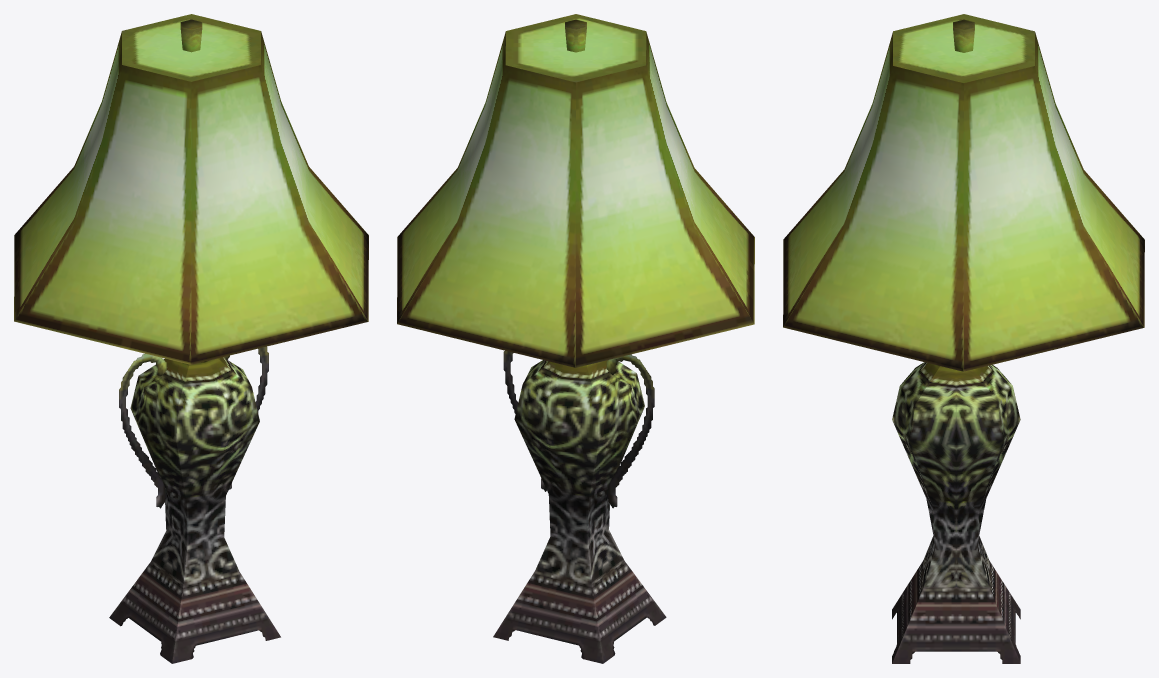
Rendered from furni_0201200_03.FBX.
3 renders of one model, left to right at view 1: azimuth 30°, elevation 25°; view 2: azimuth 150°, elevation 25°; view 3: azimuth 270°, elevation 25°, orthographic.
Parts seen in each view (by area): view 1: furni_0201200_03; view 2: furni_0201200_03; view 3: furni_0201200_03.
Boxes of the visible parts, bbox=[...] form: furni_0201200_03: bbox=[14, 14, 368, 663]; furni_0201200_03: bbox=[397, 14, 754, 663]; furni_0201200_03: bbox=[783, 14, 1144, 663].
Size of the model in its own units: 59.47 by 96.18 by 51.55.
